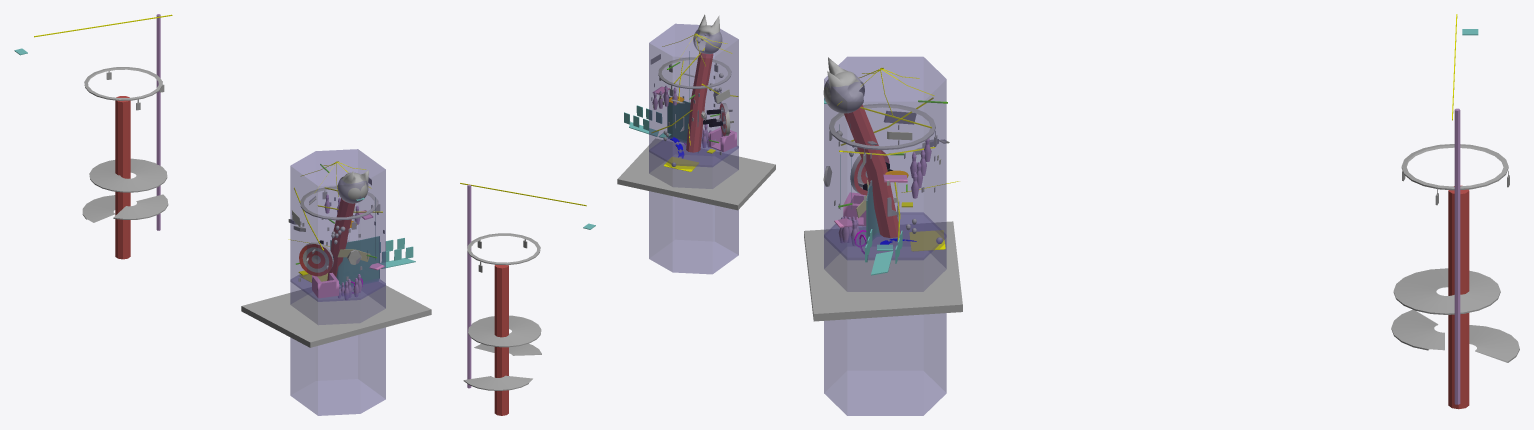
File: Nvl 11.fbx
3 renders of one model, left to right at view 1: azimuth 30°, elevation 25°; view 2: azimuth 150°, elevation 25°; view 3: azimuth 270°, elevation 25°, orthographic. The views are drawn at different scales.
Parts seen in each view (by area): view 1: pCube1, pCube96, pCube123, pCylinder26, pCube18, pCylinder30, pasted__pCylinder7, pCylinder27, pSphere20, pCylinder29, pCylinder7, pCylinder28 (+6 smaller); view 2: pCube1, pCube96, pCube123, pCylinder26, pasted__pCylinder7, pCylinder29, pCube18, pSphere20, pCylinder28, pCylinder7, pCylinder25, pCylinder20 (+6 smaller); view 3: pCube1, pCube96, pCube123, pCylinder26, pasted__pCylinder7, pCylinder29, pSphere20, pCylinder27, pCylinder28, pCylinder7, pCylinder25, pCylinder17 (+3 smaller).
Part boxes in pixels (x1,y1,x2,y2): pCube1: [290, 149, 385, 301]; pCube96: [290, 273, 385, 415]; pCube123: [241, 282, 431, 347]; pCylinder26: [89, 158, 167, 192]; pCube18: [330, 236, 379, 287]; pCylinder30: [299, 242, 333, 276]; pasted__pCylinder7: [327, 198, 355, 280]; pCylinder27: [113, 194, 168, 219]; pSphere20: [337, 170, 368, 203]; pCylinder29: [156, 14, 160, 230]; pCylinder7: [115, 96, 130, 149]; pCylinder28: [82, 195, 115, 222]; pCube1: [649, 23, 738, 167]; pCube96: [649, 137, 738, 274]; pCube123: [617, 138, 775, 210]; pCylinder26: [468, 315, 541, 347]; pasted__pCylinder7: [686, 52, 713, 152]; pCylinder29: [467, 184, 471, 388]; pCube18: [667, 96, 698, 152]; pSphere20: [693, 14, 722, 54]; pCylinder28: [463, 375, 532, 390]; pCylinder7: [494, 264, 508, 312]; pCylinder25: [467, 233, 540, 265]; pCylinder20: [494, 311, 508, 357]; pCube1: [824, 56, 946, 260]; pCube96: [824, 212, 946, 415]; pCube123: [804, 221, 962, 321]; pCylinder26: [1393, 268, 1500, 314]; pasted__pCylinder7: [844, 104, 900, 237]; pCylinder29: [1454, 108, 1460, 404]; pSphere20: [823, 57, 864, 113]; pCylinder27: [1391, 309, 1444, 350]; pCylinder28: [1469, 325, 1519, 362]; pCylinder7: [1448, 185, 1469, 258]; pCylinder25: [1401, 144, 1508, 190]; pCylinder17: [829, 103, 935, 150].
Size of the model in its own units: 256 by 347 by 647.
